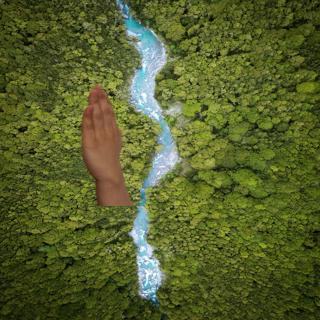RIGHT: (75, 81, 128, 181)
